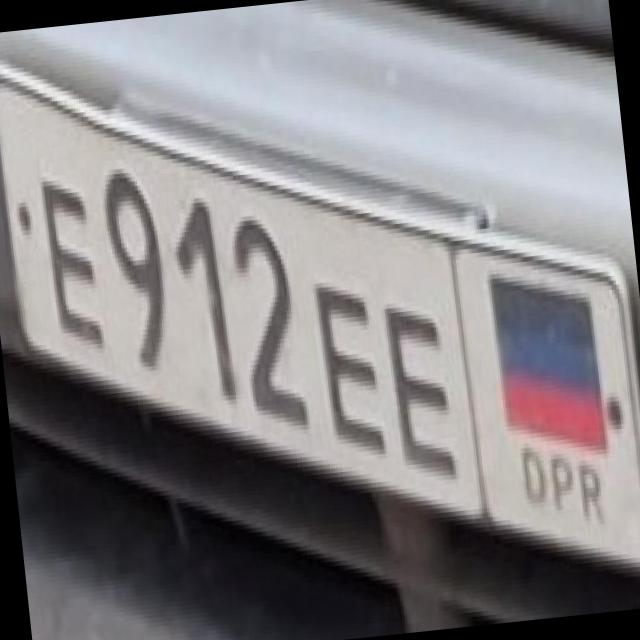1: (156, 172, 241, 404)
2: (216, 197, 316, 436)
9: (87, 147, 175, 370)
E: (370, 278, 464, 476), (298, 262, 392, 456), (23, 158, 106, 345)
